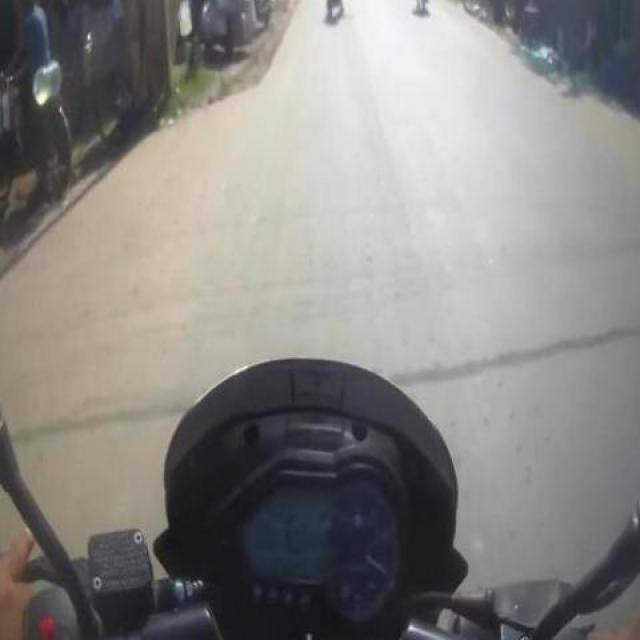Unmarked Bump: (401, 316, 638, 392), (8, 391, 175, 437)
